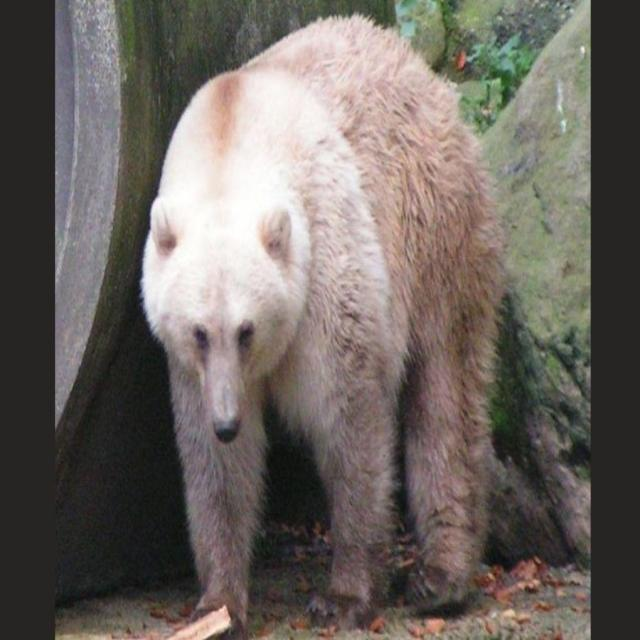Bear: (140, 14, 510, 640)
